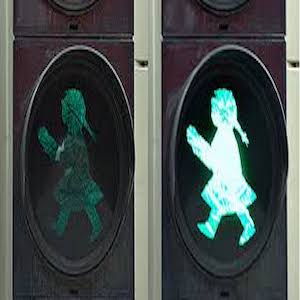green: (183, 78, 257, 234)
